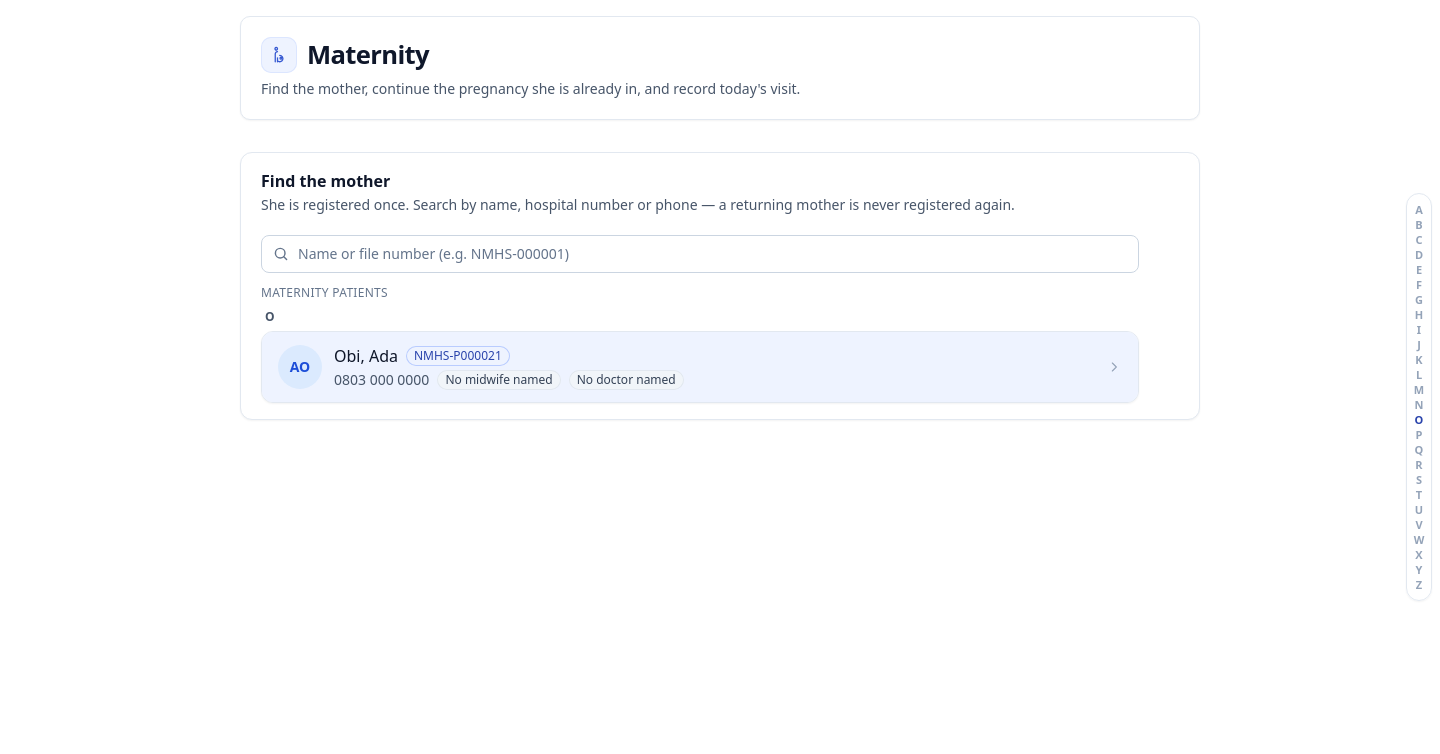
Scenario: triplets and singletons › shows three babies for triplets
Click the dropdown named "Search maternity patients". click: (700, 254)
box: [261, 235, 1139, 273]
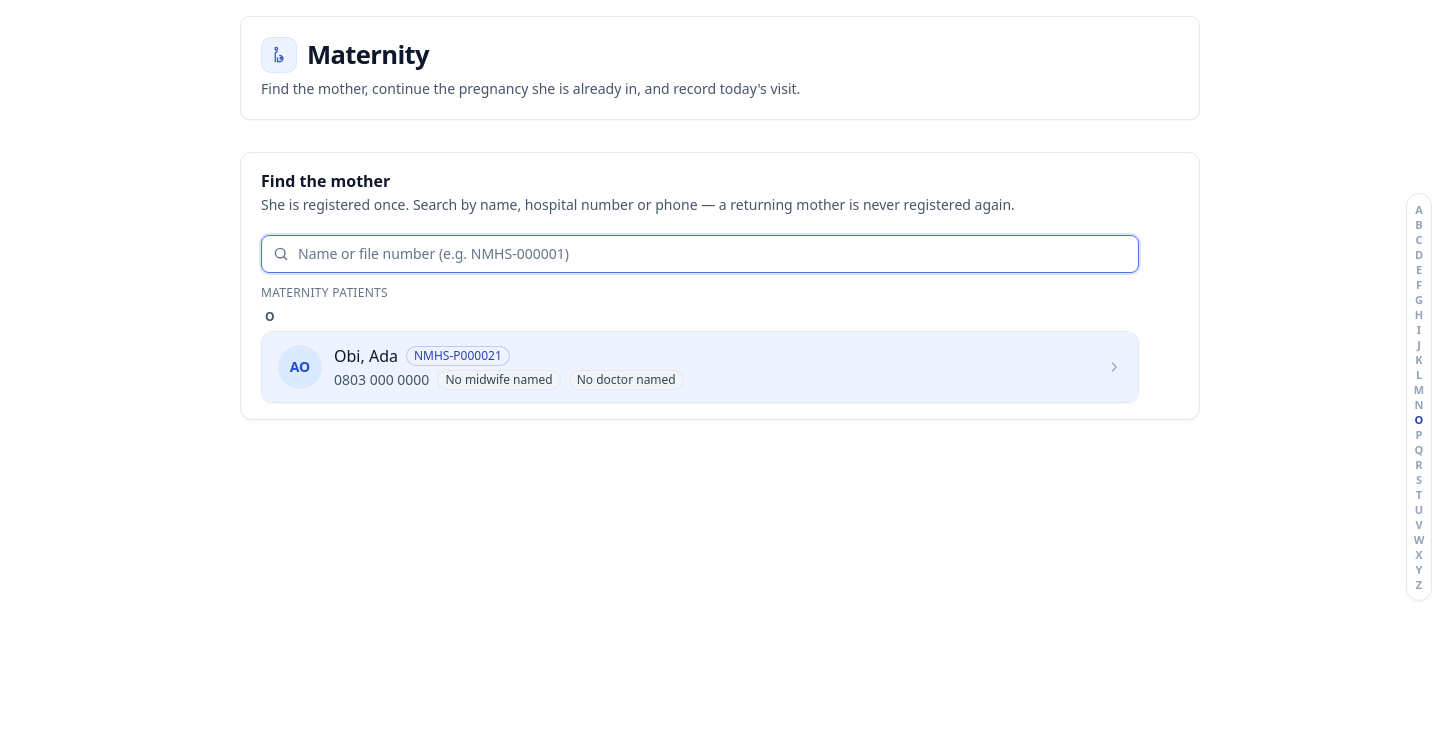
Click the option "Obi, Ada". click: (300, 367)
box: [262, 332, 1138, 402]
(page scrolled)
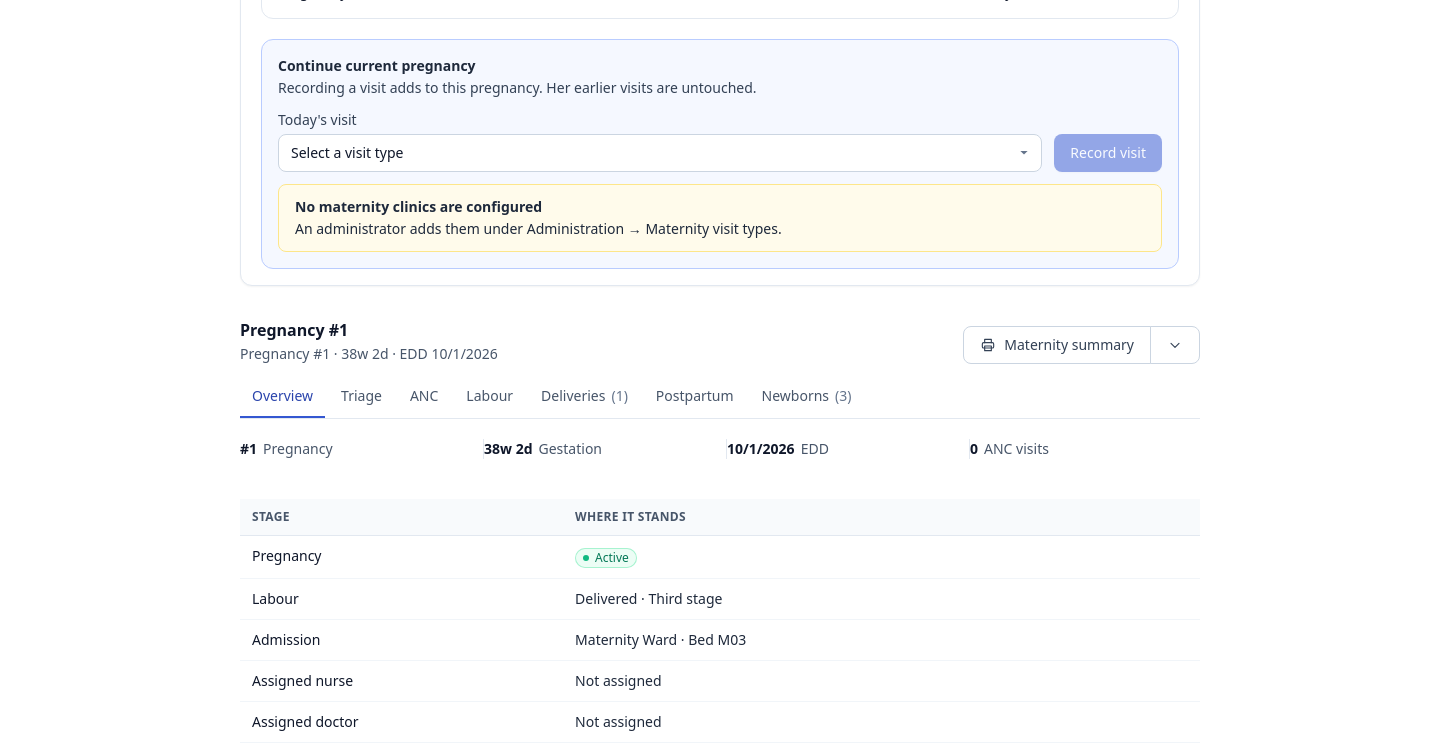
Click the button "Newborns(3)". click: (807, 397)
box: [750, 376, 864, 418]
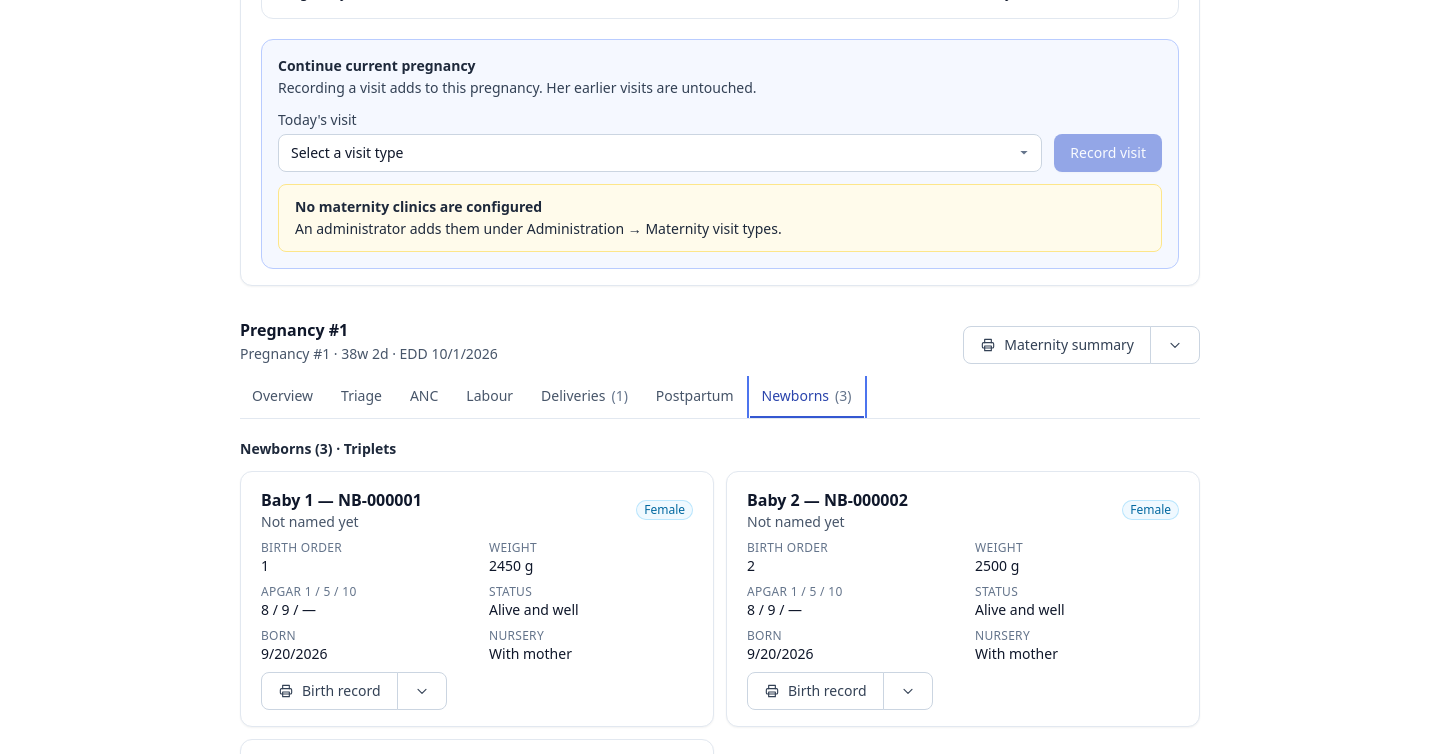
Expected: the text "Newborns (3) · Triplets" is shown, [240, 439, 396, 458]
Expected: the text "Baby 1 — NB-000001" is shown, [261, 488, 422, 512]
Expected: the text "Baby 2 — NB-000002" is shown, [747, 488, 908, 512]
